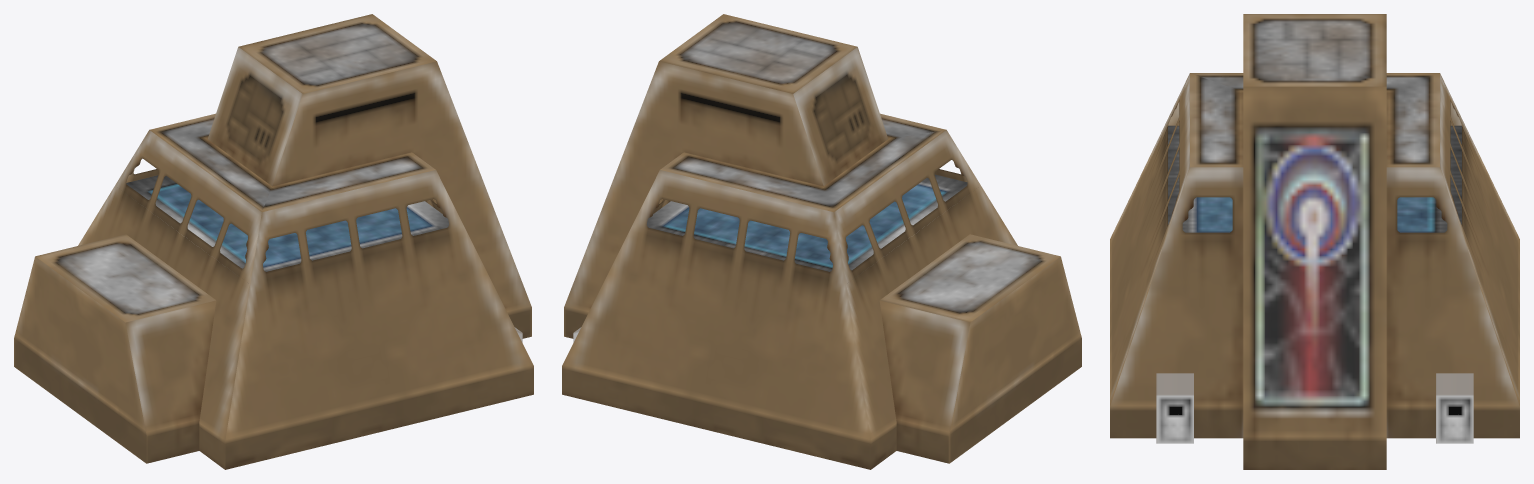
The model's file is hpg_office.glb.
The picture shows the model from 3 angles, left to right: view 1: azimuth 30°, elevation 25°; view 2: azimuth 150°, elevation 25°; view 3: azimuth 270°, elevation 25°; orthographic projection. The views are drawn at different scales.
Visible parts, largest first — view 1: HPG Ziggurat; view 2: HPG Ziggurat; view 3: HPG Ziggurat.
Boxes of the visible parts, x1,y1,x2,y2 form: HPG Ziggurat: (14,14,533,469); HPG Ziggurat: (562,14,1081,469); HPG Ziggurat: (1110,14,1519,469).
Bounding box in the file's own units: 23.44 × 15.94 × 17.85.
2 materials, 2 textured.
